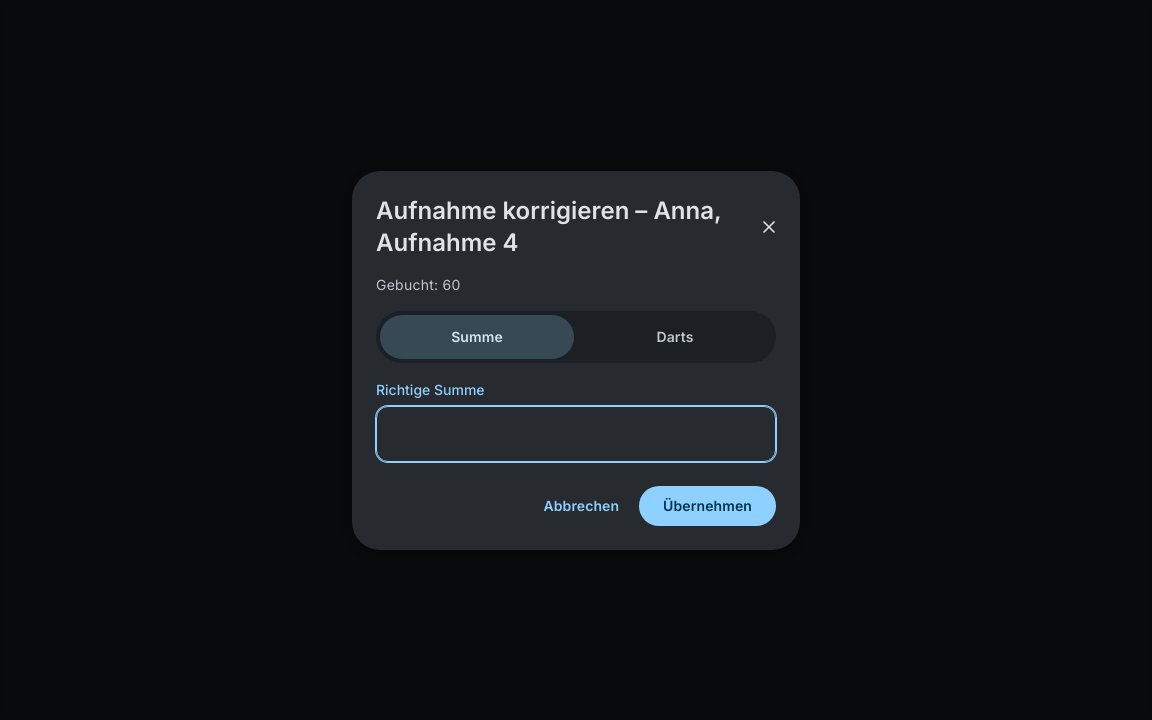
EditVisitDialog › shows the reason when the game refuses the correction and stays open
This screenshot has width=1152, height=720.
Step 1. Type "40" into the field with test id "edit-visit-sum" → (576, 434), box [376,406,776,462]
Then press Enter
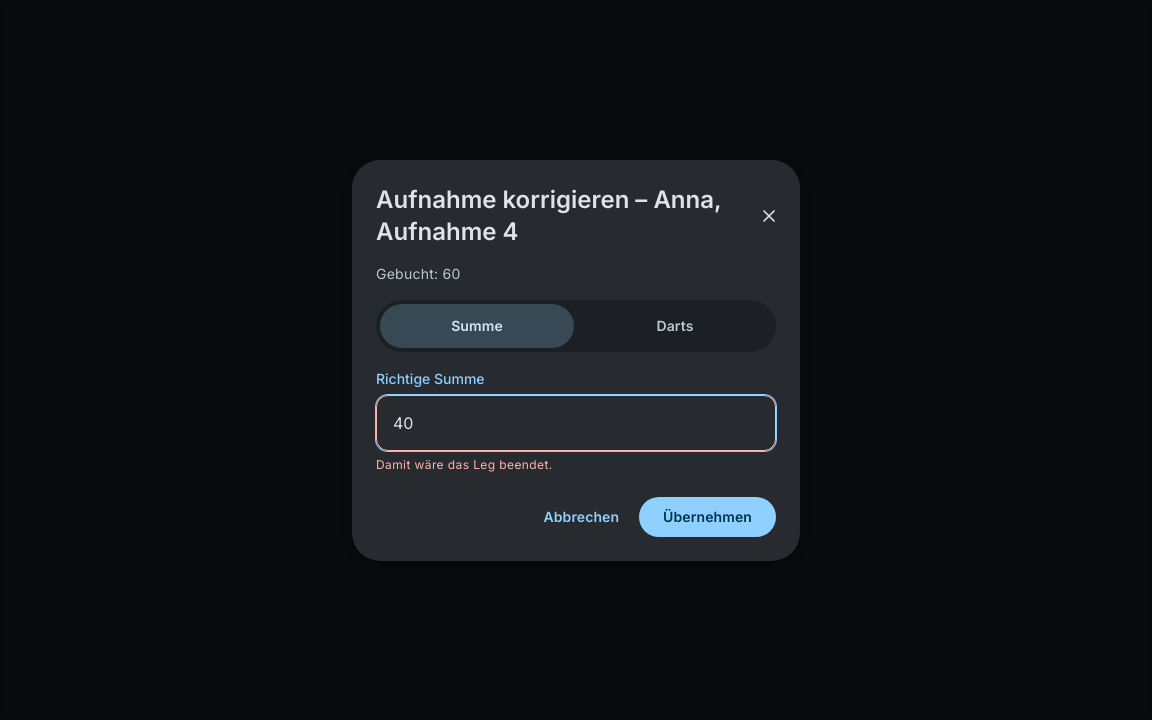
Now the dialog shows "Damit wäre das Leg beendet.", box [376,456,553,472]
